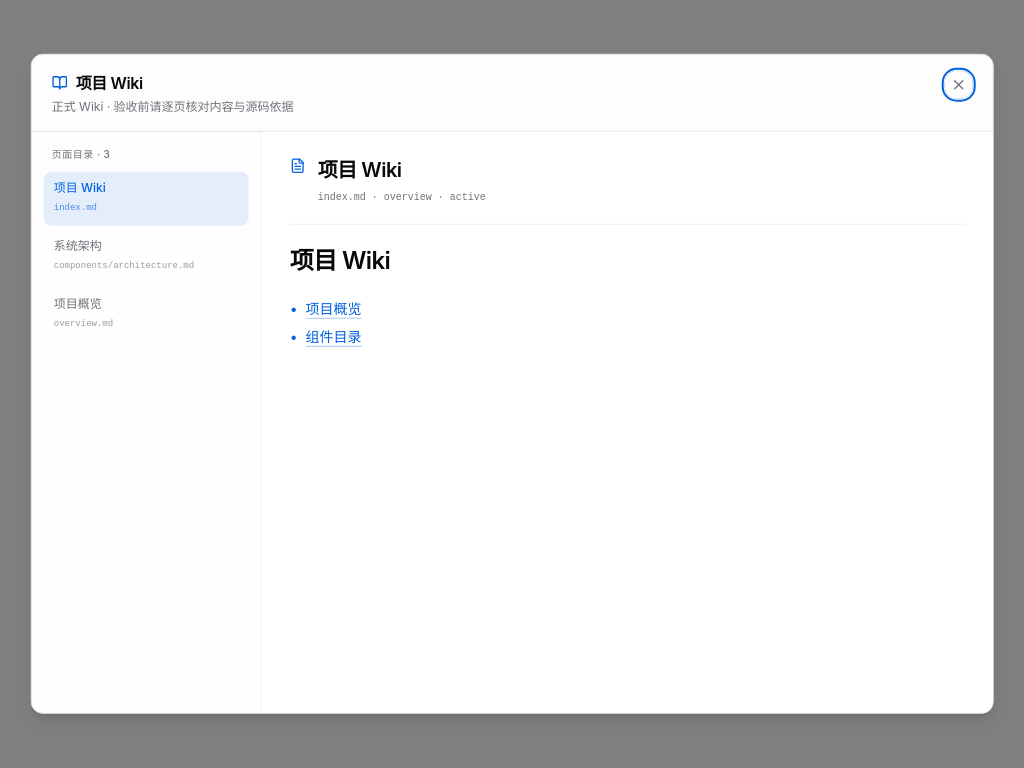
Test: ProjectWikiViewer 页面导航 › 点击 index.md 的 Markdown 链接进入对应 Wiki 页面
Click the link "项目概览". click: (334, 308)
box: top-left (306, 300), bottom-right (362, 317)
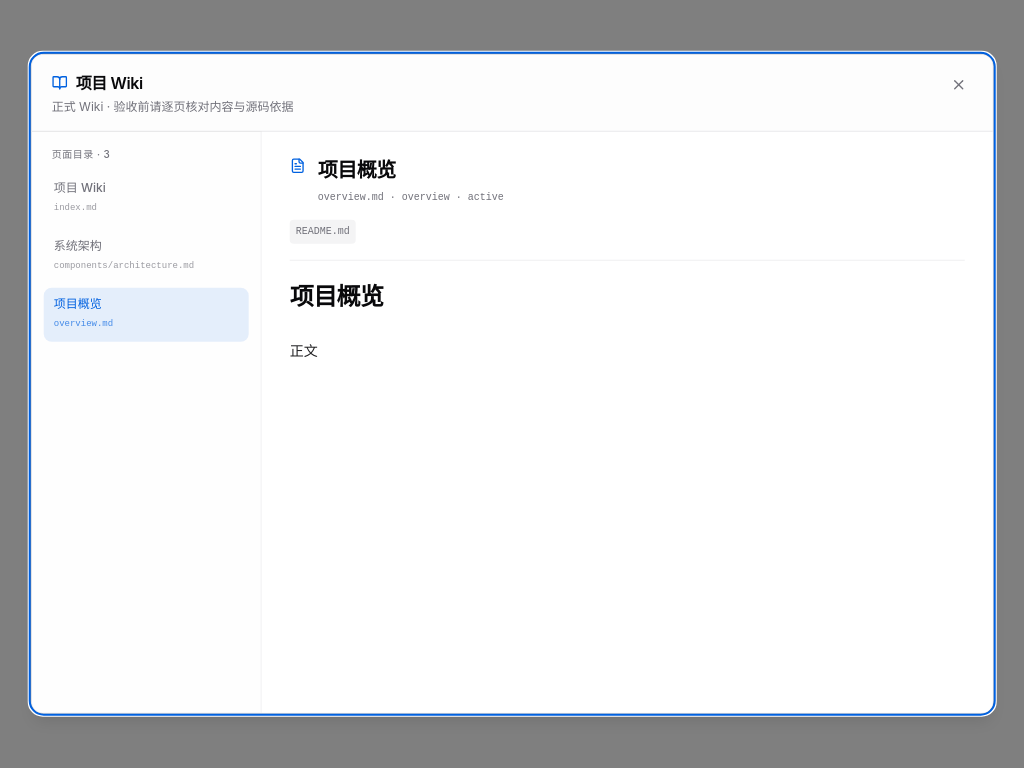
Result: the text "overview.md · overview · active" is shown at top-left (318, 192), bottom-right (504, 203)
Result: the text "README.md" is shown at top-left (290, 220), bottom-right (356, 244)
